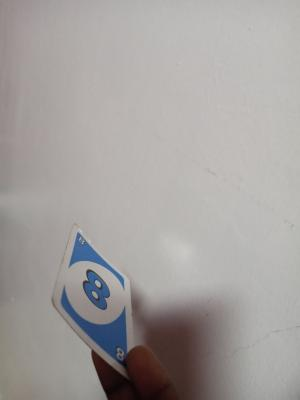blue: (72, 238, 122, 349)
